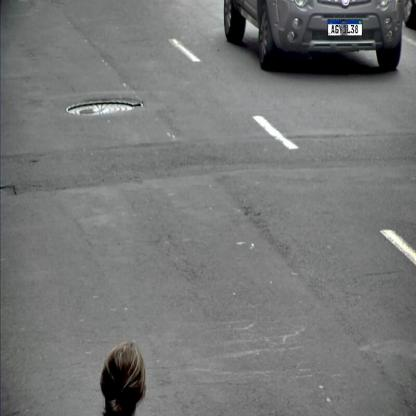PlacaM: (328, 19, 362, 36)
